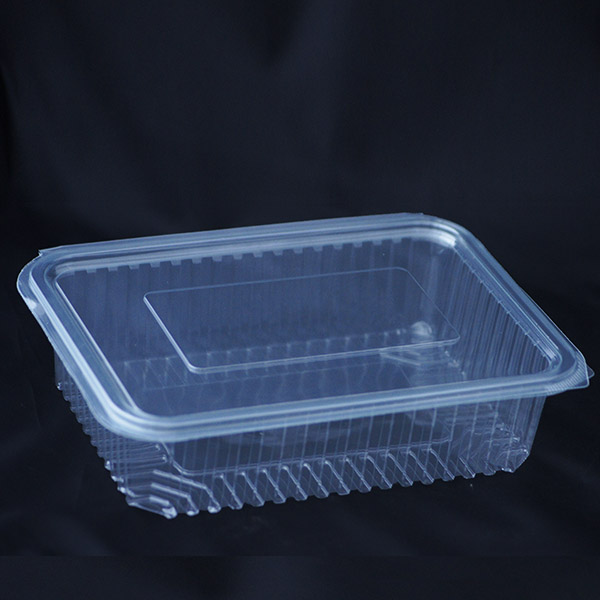plastic: (12, 211, 594, 516)
